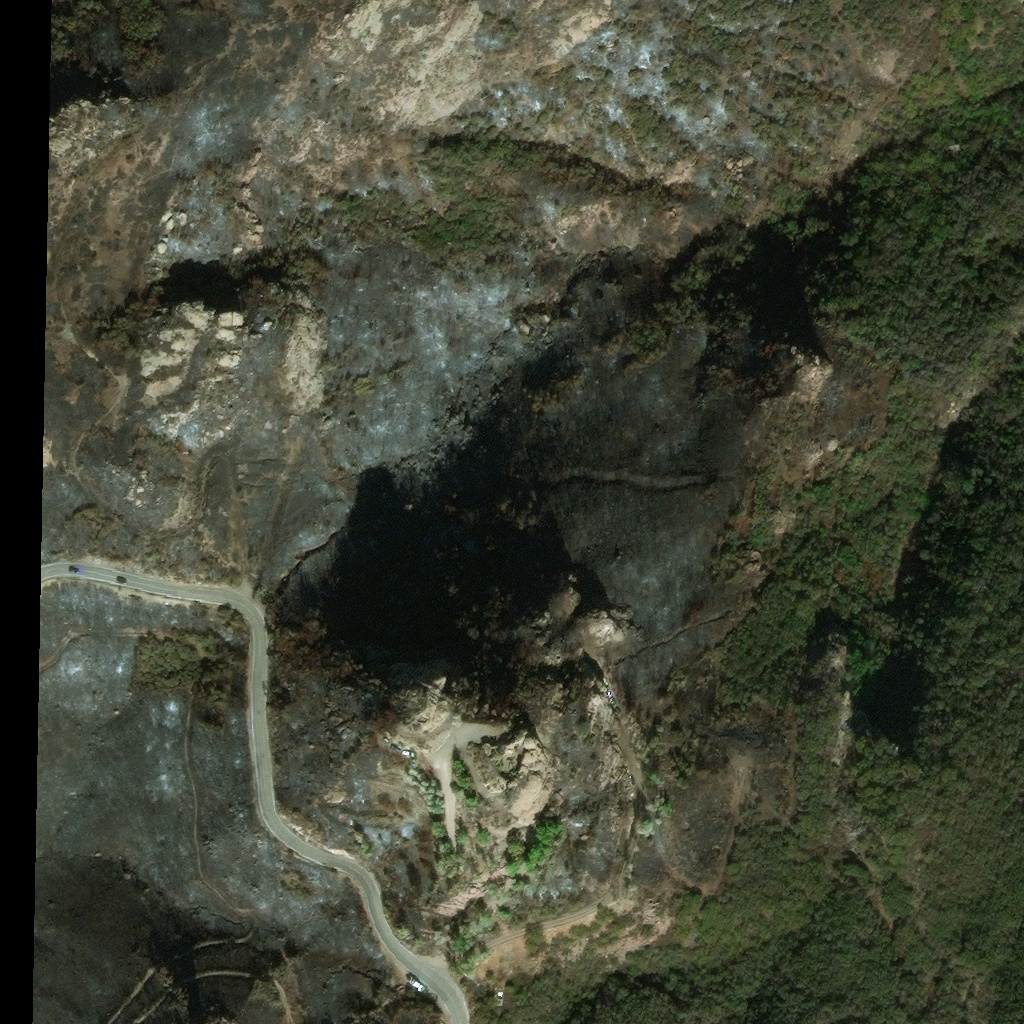0 no-damage: (494, 991, 505, 1007)
3 destroyed: (234, 247, 244, 256)
